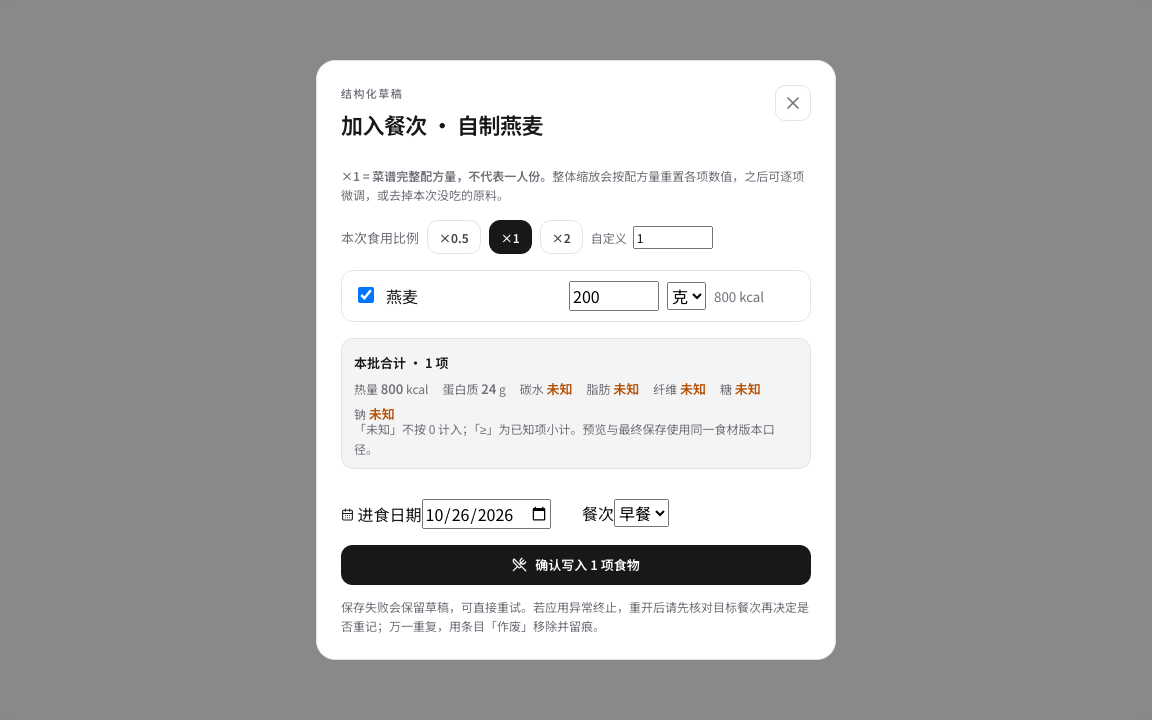
Test: excludes an ingredient and blocks confirmation until one remains
The width and height of the screenshot is (1152, 720).
Click the checkbox labelled "燕麦": click(366, 295) [358,287,374,303]
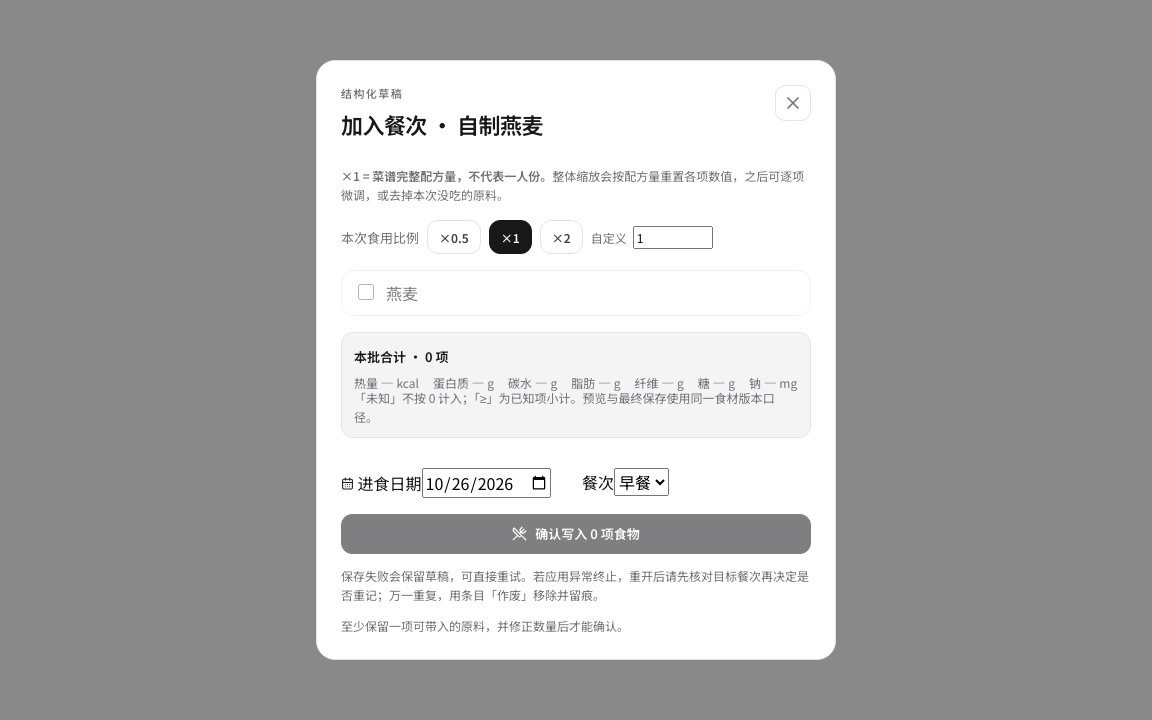
Expected: the element named "本批营养合计" shows "0 项", [341,332,811,438]
Expected: the element named "本批营养合计" shows "—", [381,373,394,392]
Click the checkbox labelled "燕麦": click(366, 292) [358,284,374,300]
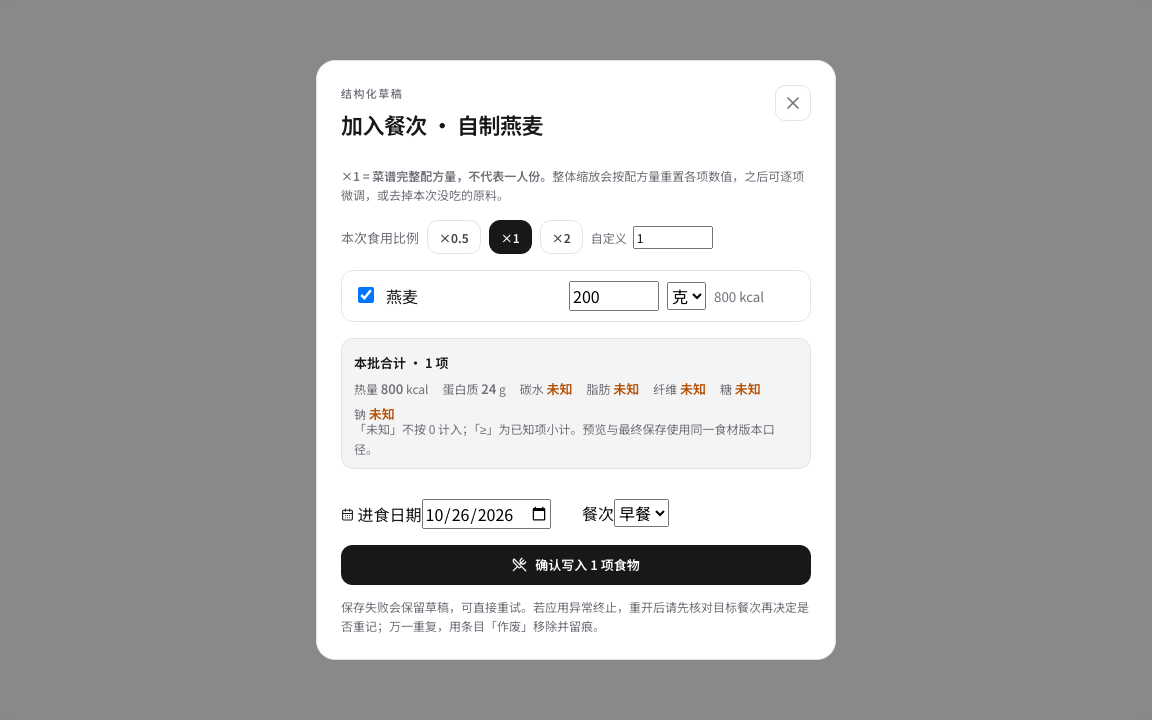
Expected: the element named "本批营养合计" shows "1 项", [341,338,811,469]
